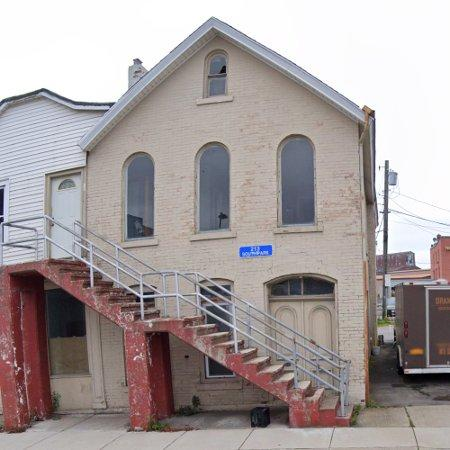chimneys: (128, 58, 148, 87)
